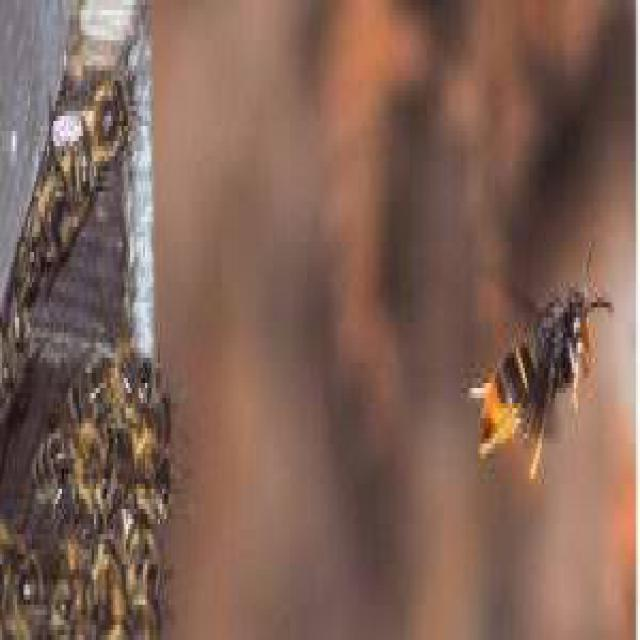Vespa Velutina: (462, 230, 618, 487)
